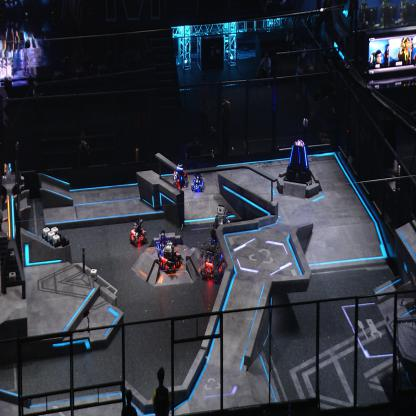car: (200, 236, 226, 283), (157, 239, 182, 275), (211, 212, 232, 250), (129, 216, 148, 245), (156, 229, 173, 258), (172, 163, 190, 187), (190, 170, 206, 193)
